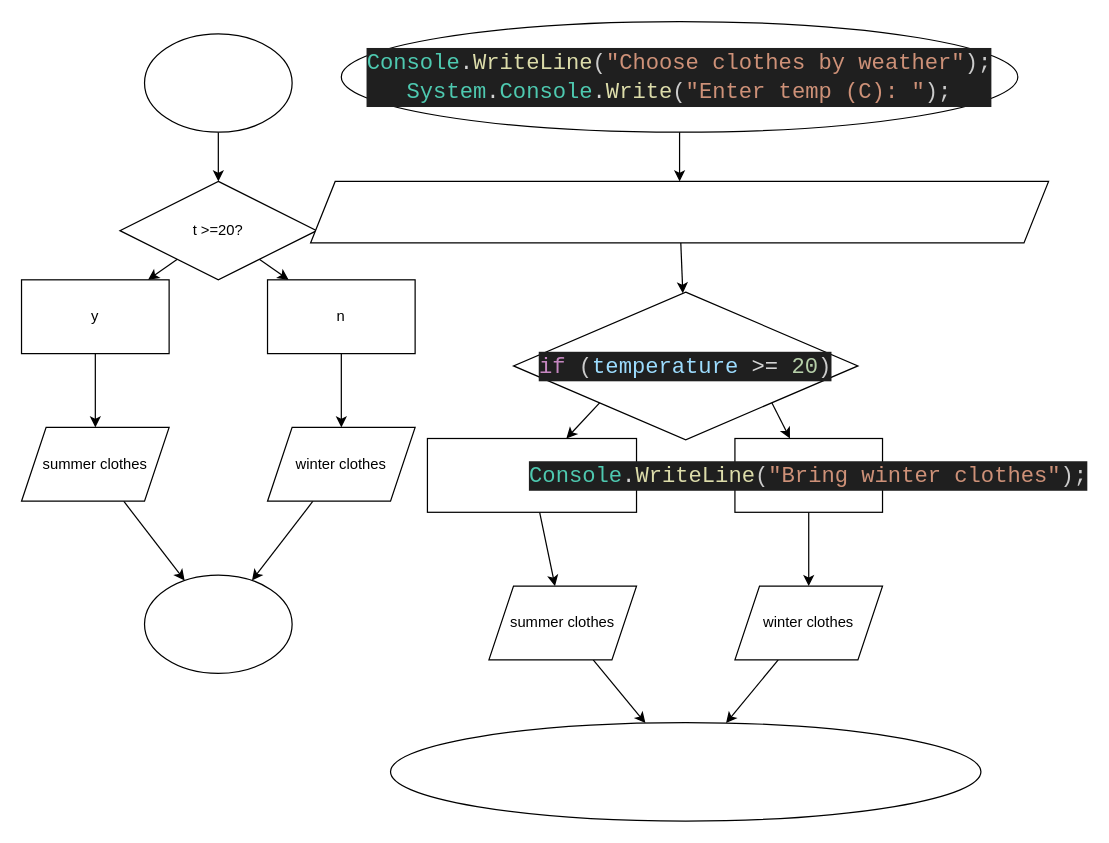
Some shapes in this 1109 by 843 pixel diagram are drawn without their labels. The shapes that lost their labels are listed below. From the top down, each one's centre as x and y in pixels, then its label:
pixel 217 82: start
pixel 679 211: int temperature = Convert . ToInt32 ( Console . ReadLine ());
pixel 531 474: Console . WriteLine ( "Bring summer clothes" );
pixel 217 623: end
pixel 685 771: Console . WriteLine ( "Have a nice day!" );
